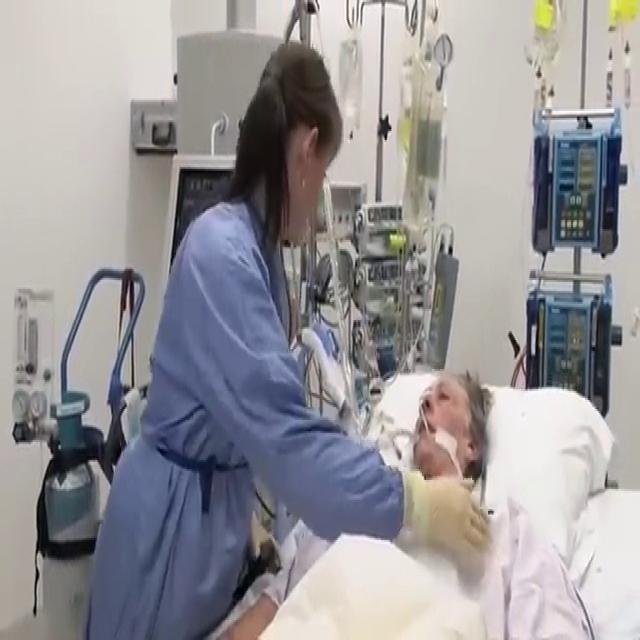nurse: (146, 38, 368, 521)
patient: (253, 367, 601, 638)
